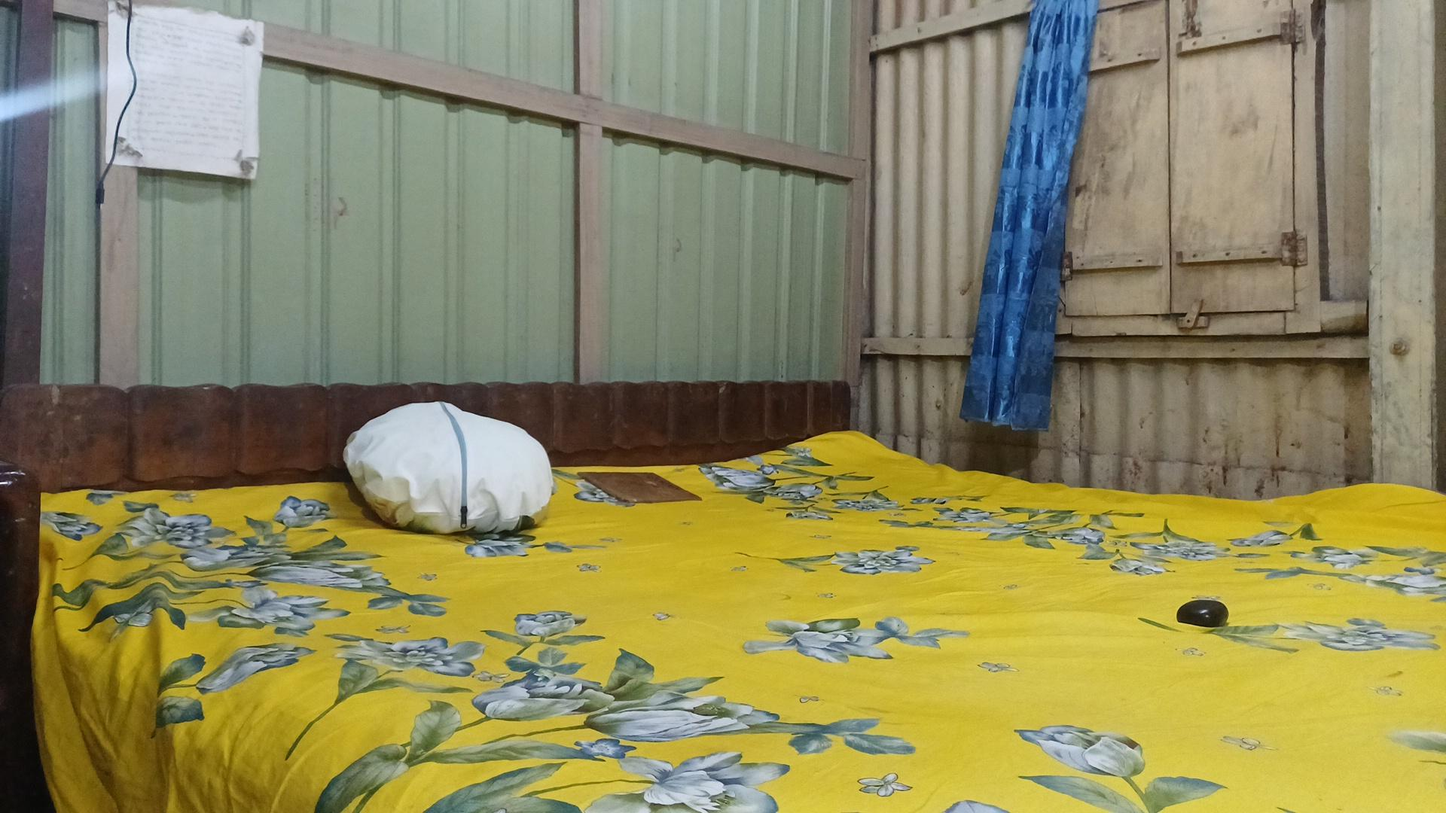Pillow: (341, 401, 568, 569)
Window: (1004, 6, 1339, 336)
